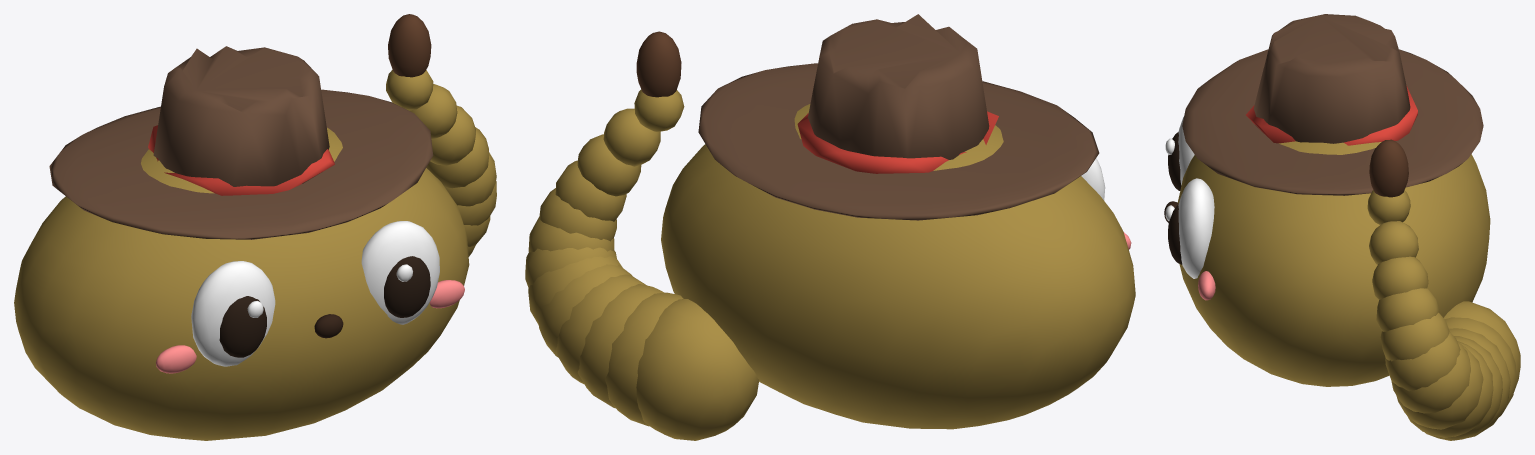
The model's file is RattlesnakeRex.fbx.
3 views of the same model, side by side, from view 1: azimuth 30°, elevation 25°; view 2: azimuth 150°, elevation 25°; view 3: azimuth 270°, elevation 25° (orthographic). The views are drawn at different scales.
Parts seen in each view (by area): view 1: Body, Hat, EyeWhite, Ink, Accent, HatBand, Cheek, Dark; view 2: Body, Hat, HatBand, Accent; view 3: Body, Hat, EyeWhite, Accent, HatBand, Ink, Cheek.
Boxes of the visible parts, bbox=[...] form: Body: bbox=[14, 70, 496, 440]; Hat: bbox=[49, 46, 433, 239]; EyeWhite: bbox=[191, 221, 439, 366]; Ink: bbox=[219, 256, 430, 357]; Accent: bbox=[388, 14, 431, 77]; HatBand: bbox=[148, 125, 334, 195]; Cheek: bbox=[155, 280, 464, 373]; Dark: bbox=[314, 314, 343, 338]; Body: bbox=[525, 89, 1135, 440]; Hat: bbox=[698, 14, 1099, 220]; HatBand: bbox=[797, 111, 998, 173]; Accent: bbox=[636, 31, 681, 97]; Body: bbox=[1177, 141, 1520, 440]; Hat: bbox=[1182, 14, 1483, 195]; EyeWhite: bbox=[1165, 117, 1214, 278]; Accent: bbox=[1369, 139, 1408, 197]; HatBand: bbox=[1246, 85, 1417, 145]; Ink: bbox=[1168, 132, 1182, 264]; Cheek: bbox=[1198, 271, 1215, 300].
Size of the model in its own units: 2.84 by 1.88 by 1.9.
